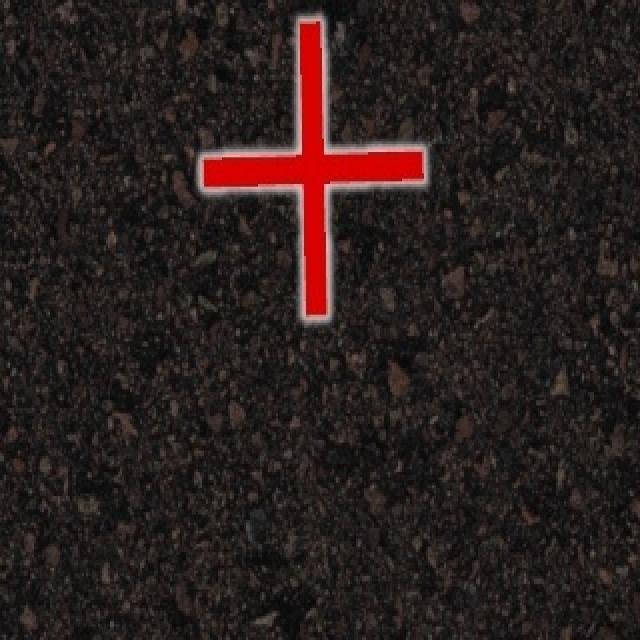x_marker: (201, 20, 423, 316)
